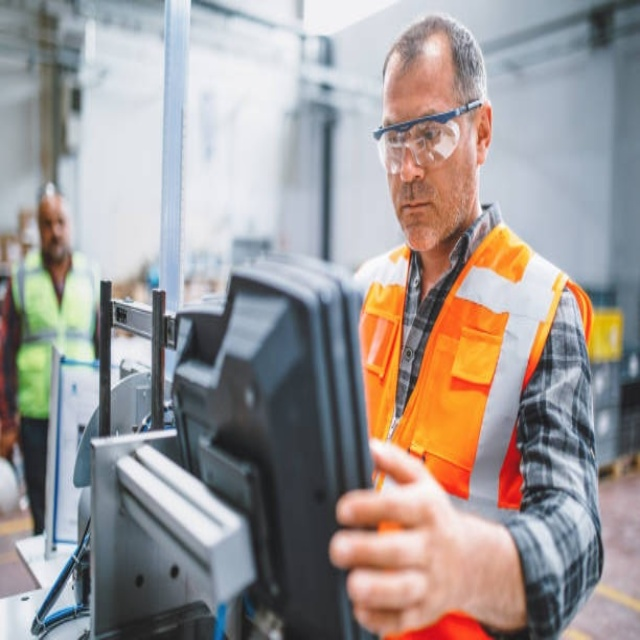Gafas: (375, 104, 479, 175)
Sin_guantes: (328, 438, 489, 634)
Sin_mascara: (395, 195, 437, 245)
